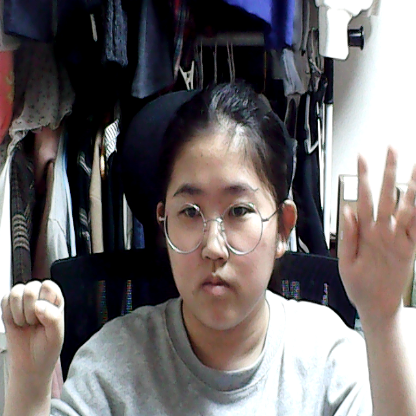Finger_0: (1, 249, 101, 398)
Finger_4: (333, 107, 416, 335)
